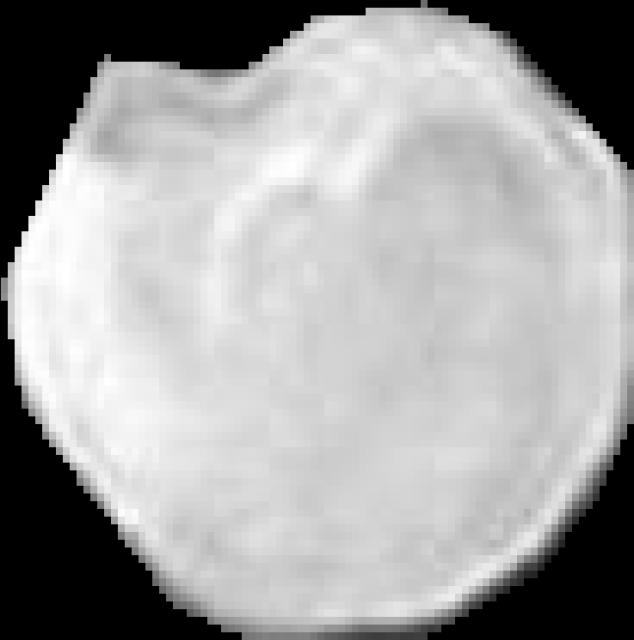tumor_moderate_chance: (1, 0, 634, 640)
